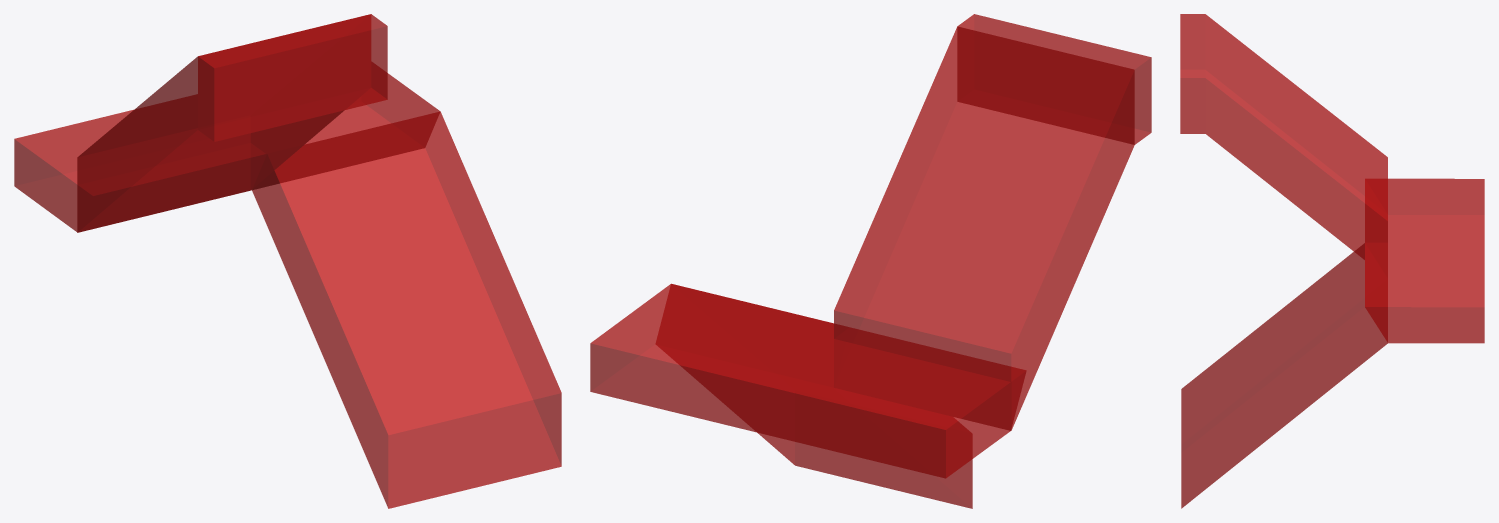
Rendered from SM_Bld_Base_Staris_02_Collision.fbx.
The picture shows the model from 3 angles, left to right: view 1: azimuth 30°, elevation 25°; view 2: azimuth 150°, elevation 25°; view 3: azimuth 270°, elevation 25°; orthographic projection. The views are drawn at different scales.
Parts seen in each view (by area): view 1: SM_Bld_Base_Stairs_02_Collision; view 2: SM_Bld_Base_Stairs_02_Collision; view 3: SM_Bld_Base_Stairs_02_Collision.
Boxes of the visible parts, x1,y1,x2,y2 form: SM_Bld_Base_Stairs_02_Collision: (14,14,561,508); SM_Bld_Base_Stairs_02_Collision: (590,14,1151,508); SM_Bld_Base_Stairs_02_Collision: (1180,14,1484,508).
Size of the model in its own units: 251 by 333 by 251.
